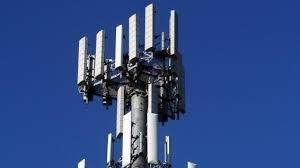antenna: (146, 107, 160, 165), (112, 20, 125, 70), (122, 112, 133, 168), (113, 85, 124, 139), (126, 14, 138, 62), (142, 3, 154, 50), (168, 5, 178, 55), (77, 36, 87, 85), (94, 30, 103, 78), (162, 132, 174, 167), (104, 130, 113, 165)
